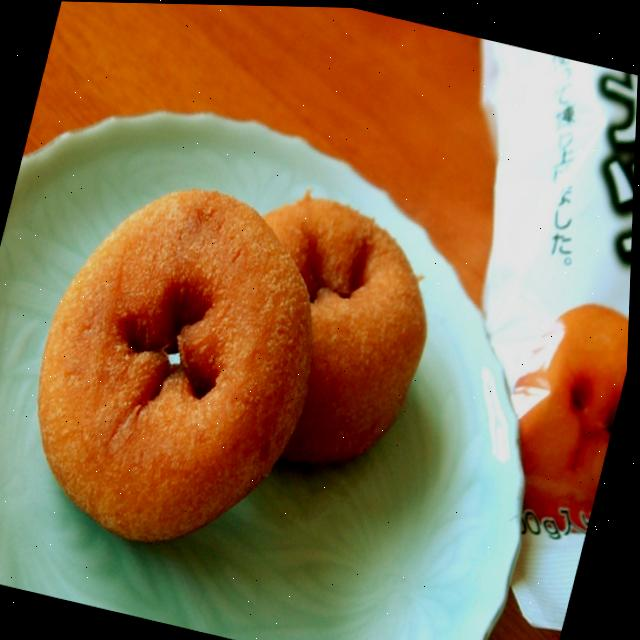炸货点心: (0, 80, 543, 640)
